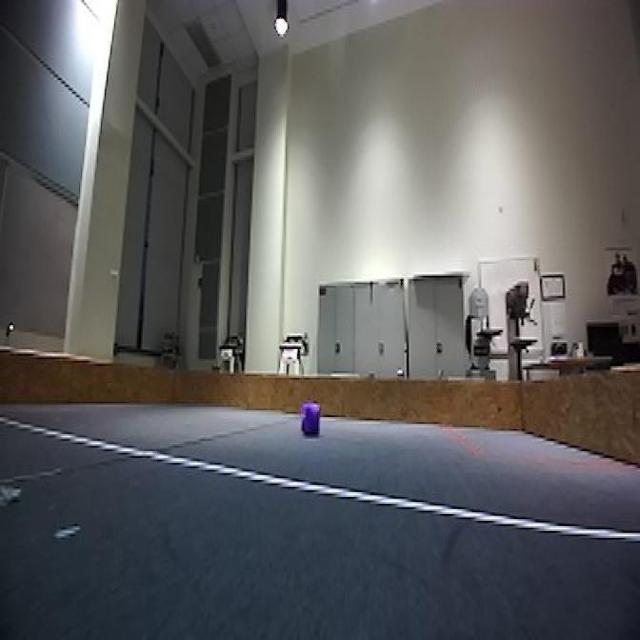frc_cube: (300, 398, 323, 438)
